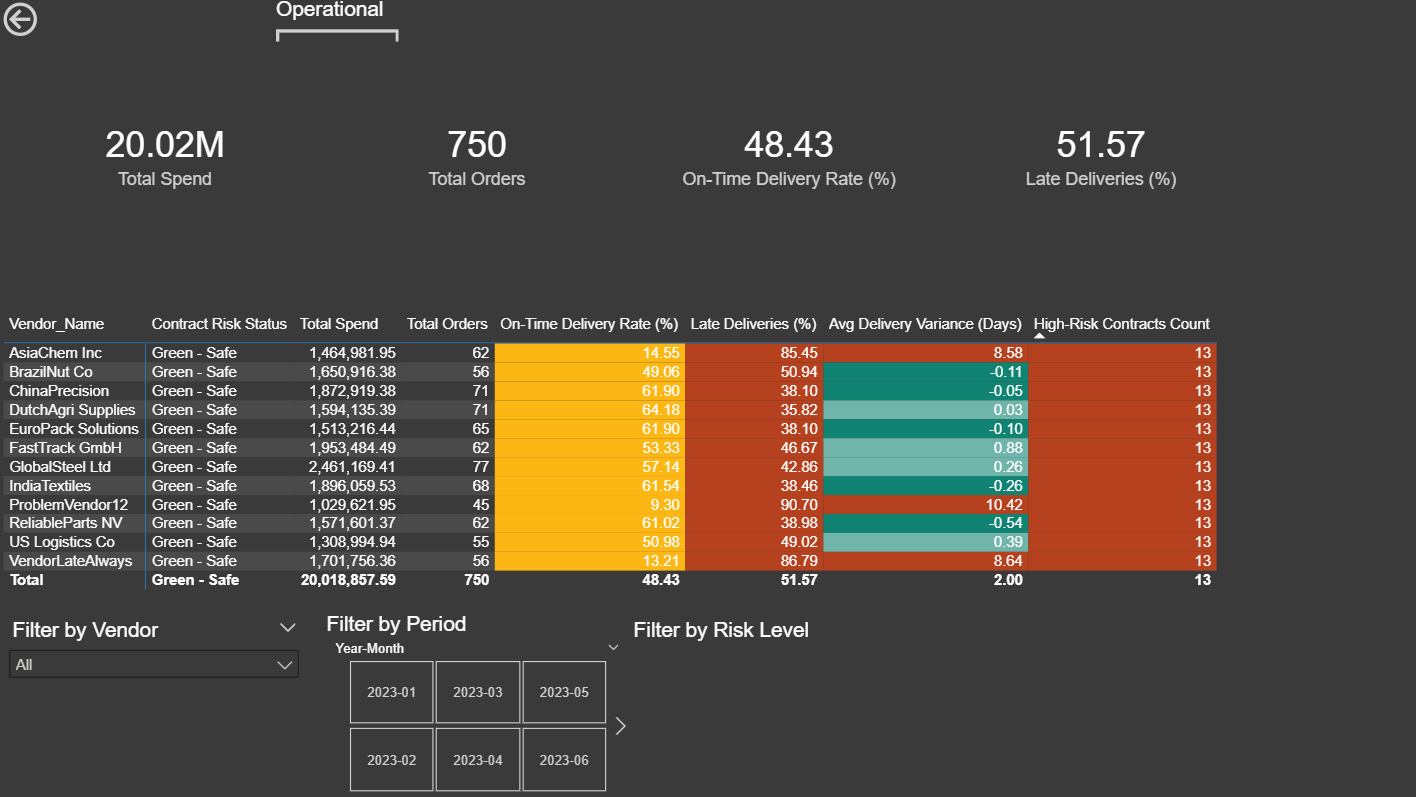

Layout of this report page (visuals, bound fields, positions):
{"tool":"powerbi","page":{"name":"Operational Matrix","canvas":[1280,720],"ordinal":3},"visuals":[{"type":"card","fields":{"Values":["procurement.Total Spend"]},"box":[10,0,280,280],"z":0},{"type":"card","fields":{"Values":["procurement.Total Orders"]},"box":[290,0,280.1,280.1],"z":1},{"type":"card","fields":{"Values":["procurement.On-Time Delivery Rate (%)"]},"box":[570.1,0,280.1,280.1],"z":2},{"type":"card","fields":{"Values":["procurement.Late Deliveries (%)"]},"box":[850.2,0,280.1,280.1],"z":3},{"type":"slicer","fields":{"Values":["procurement.Vendor_Name"]},"box":[10,290,280,280],"z":4},{"type":"slicer","fields":{"Values":["Dim_Date.Year-Month"]},"box":[290,290,280.1,280.1],"z":5},{"type":"slicer","fields":{"Values":["contracts.Contract_ID"]},"box":[570.1,290,280.1,280.1],"z":6}]}

Visuals, with their boxes in screenshot pixels (x1, y1, x2, y2), scaled from the page's 1280x720 canvas onto the 1416x797 screenshot:
card - procurement.Total Spend: [x1=11, y1=0, x2=321, y2=310]
card - procurement.Total Orders: [x1=321, y1=0, x2=631, y2=310]
card - procurement.On-Time Delivery Rate (%): [x1=631, y1=0, x2=941, y2=310]
card - procurement.Late Deliveries (%): [x1=941, y1=0, x2=1250, y2=310]
slicer - procurement.Vendor_Name: [x1=11, y1=321, x2=321, y2=631]
slicer - Dim_Date.Year-Month: [x1=321, y1=321, x2=631, y2=631]
slicer - contracts.Contract_ID: [x1=631, y1=321, x2=941, y2=631]
